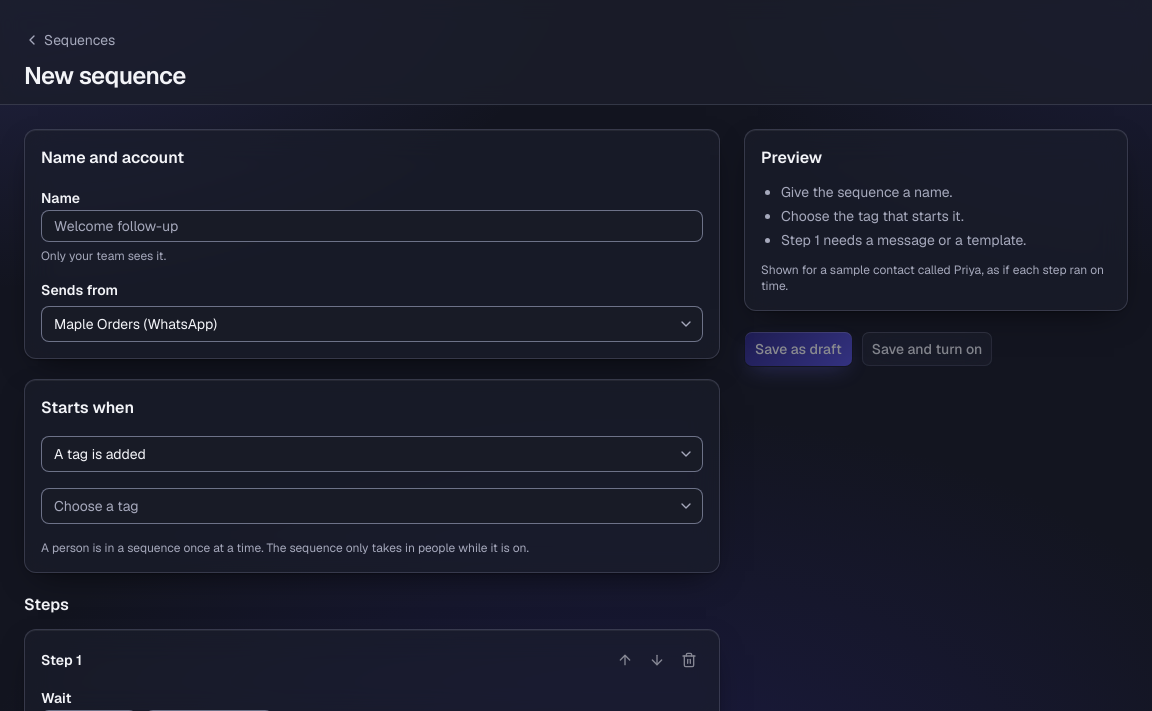
Test: the sequence form (GR-24) › offers a reply to a broadcast as a start only on a WhatsApp number
Click the dropdown named "Starts when". click: (100, 454)
box: [41,436,703,472]
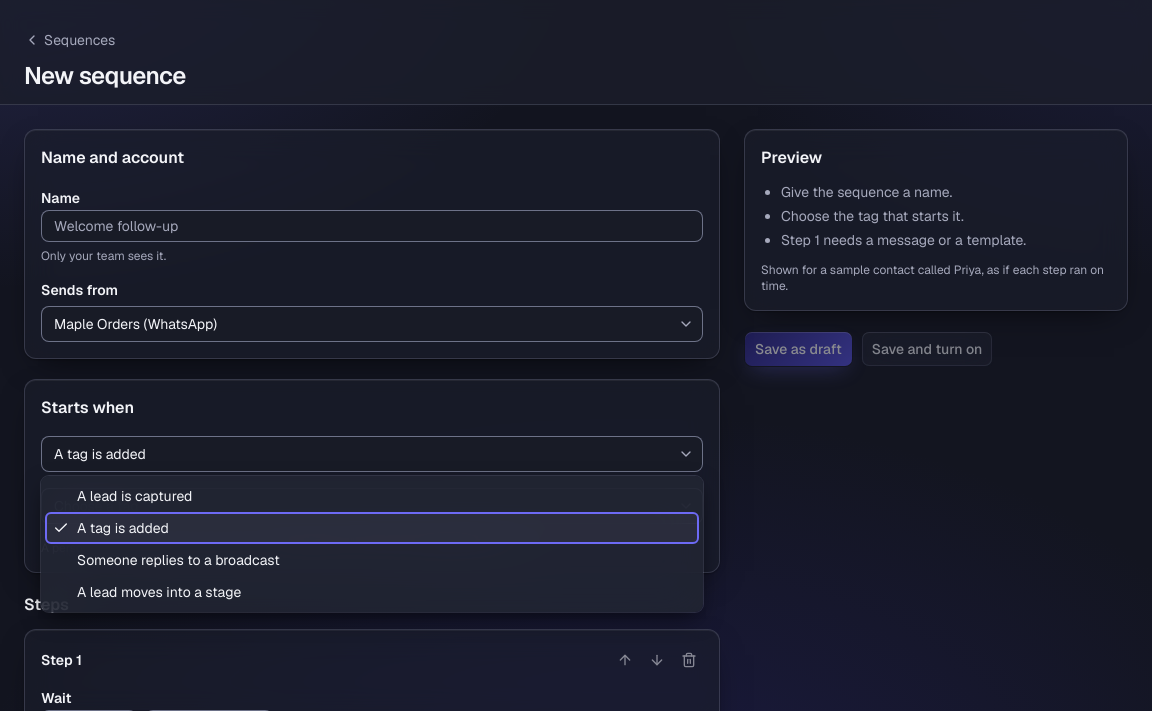
Now the option "Someone replies to a broadcast" is shown, box [77,551,280,569]
